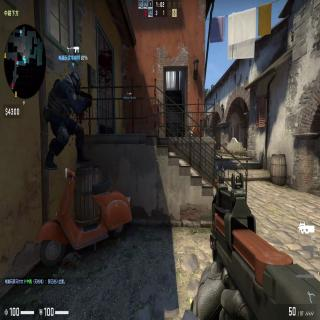CT-Body: (47, 70, 92, 166)
CT-Head: (70, 71, 82, 96)
